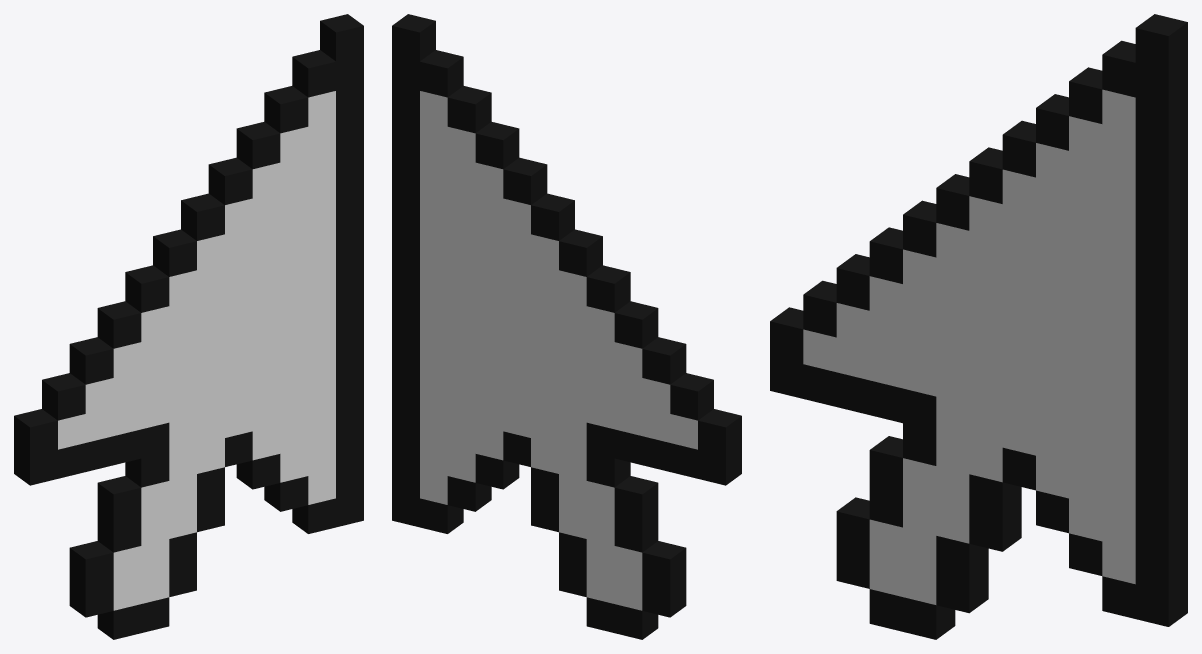
The model's file is cursor.glb.
3 views of the same model, side by side, from view 1: azimuth 30°, elevation 25°; view 2: azimuth 150°, elevation 25°; view 3: azimuth 330°, elevation 25° (orthographic). The views are drawn at different scales.
Parts seen in each view (by area): view 1: cursor; view 2: cursor; view 3: cursor.
Part boxes in pixels (x1,y1,x2,y2): cursor: [14, 14, 363, 639]; cursor: [392, 14, 741, 639]; cursor: [770, 14, 1187, 639].
Bounding box in the file's own units: 12 × 19 × 1.
Materials: 1 (1 with a texture image).
